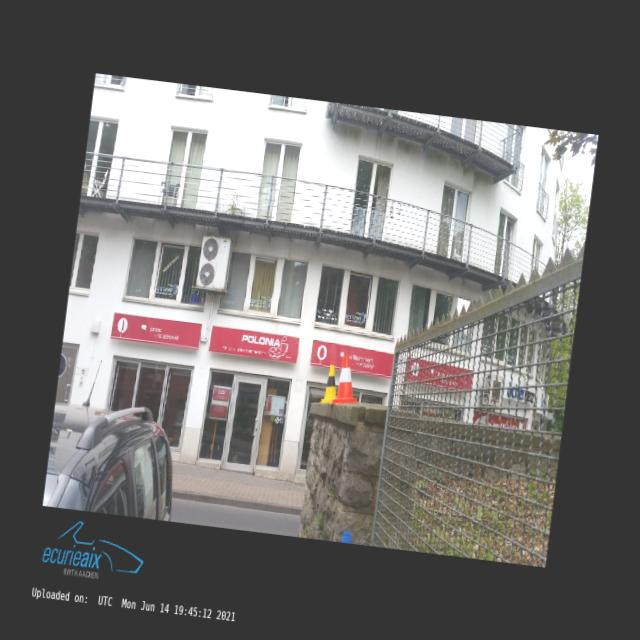orange_cone: (332, 352, 364, 406)
yellow_cone: (320, 364, 340, 402)
